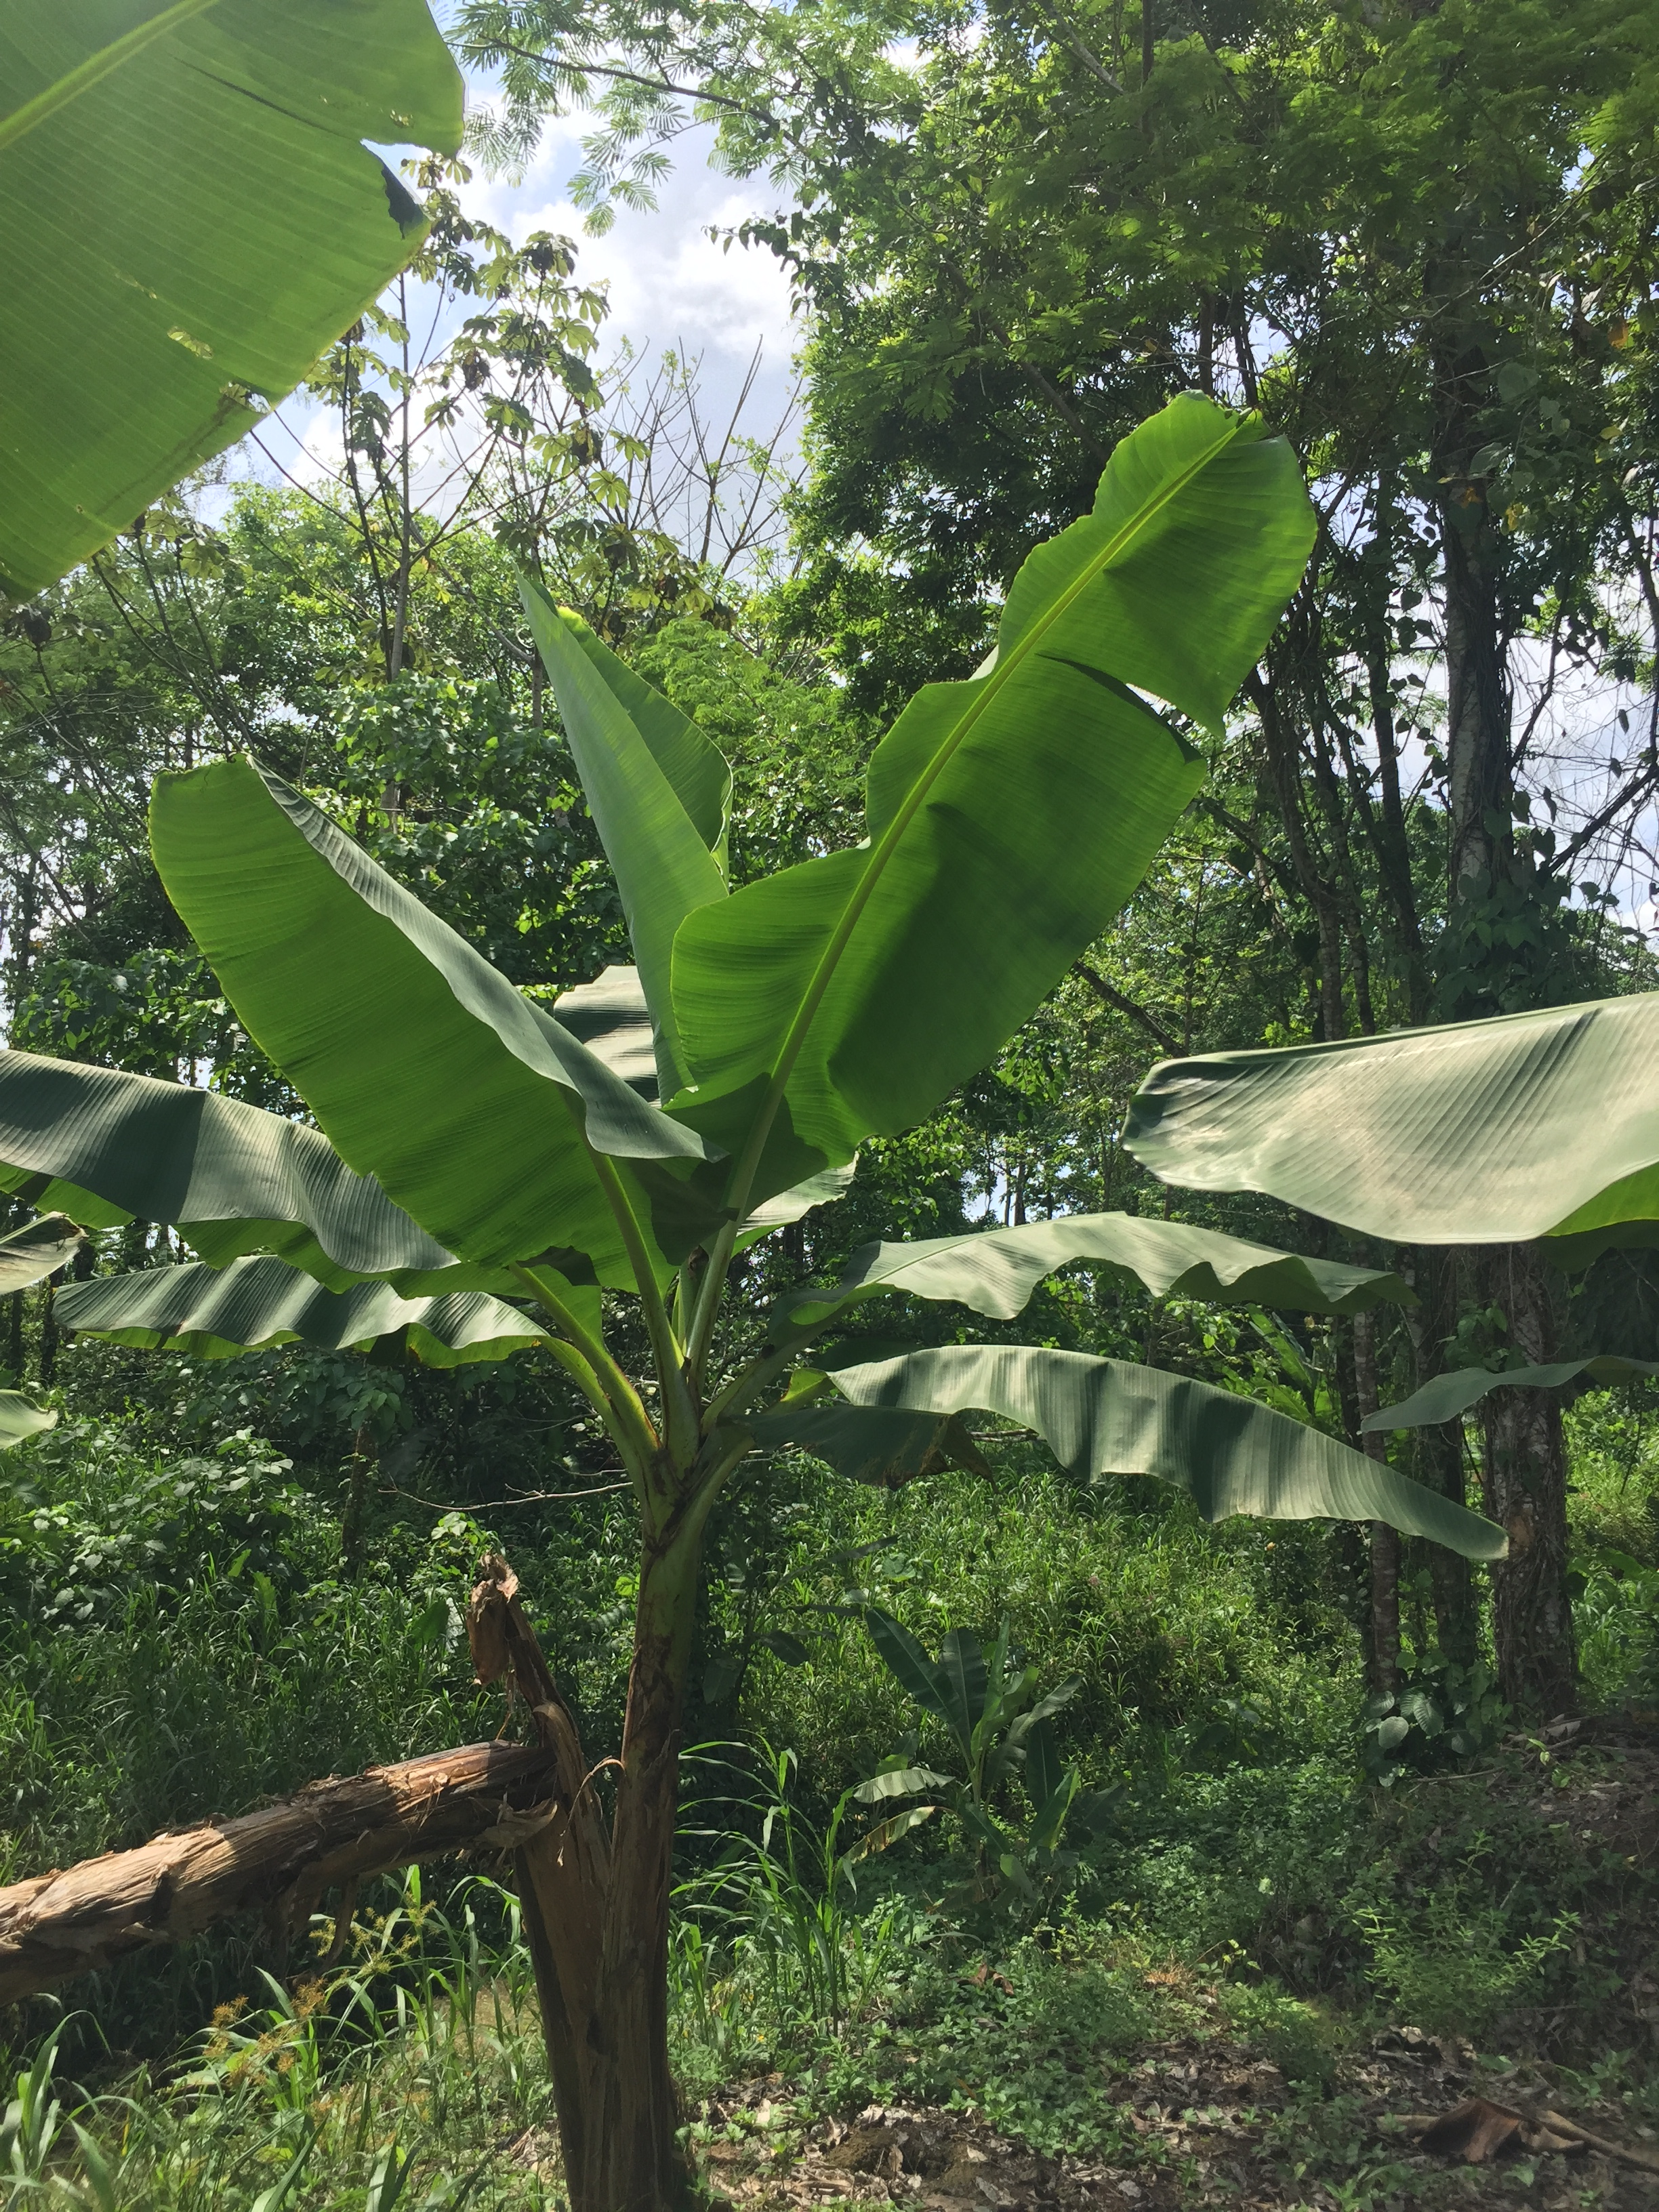candleleafs: (511, 564, 732, 1097)
